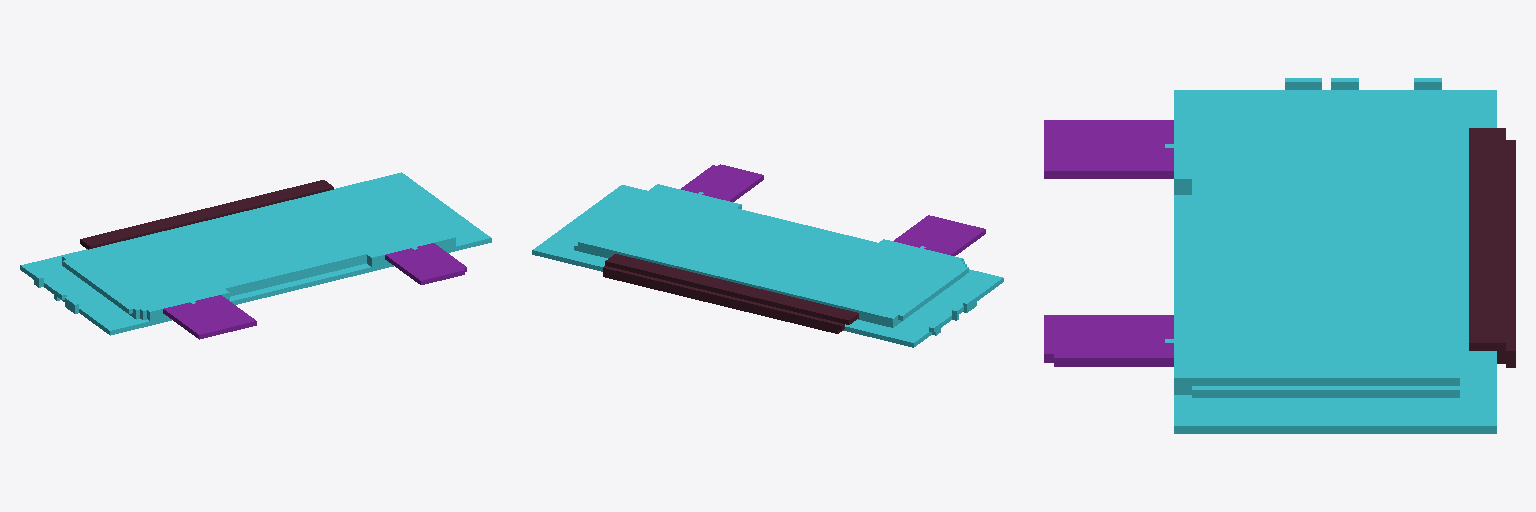
URDF robot description (physxnet_10105_strict):
<?xml version='1.0' encoding='utf-8'?>
<robot name="physxnet_10105_strict">
  <link name="l_world">
    <inertial>
      <origin xyz="0 0 0" rpy="0 0 0" />
      <mass value="0.0100000000" />
      <inertia ixx="0.0000001667" ixy="0.0" ixz="0.0" iyy="0.0000001667" iyz="0.0" izz="0.0000001667" />
    </inertial>
  </link><link name="l_0">
    <inertial>
      <origin xyz="-0.0004768423 0.1061541697 0.0038067806" rpy="0 0 0" />
      <mass value="0.1233491729" />
      <inertia ixx="0.0003206739" ixy="0.0" ixz="0.0" iyy="0.0013692394" iyz="0.0" izz="0.0011251413" />
    </inertial><visual>
      <origin xyz="0 0 0" rpy="0 0 0" />
      <geometry>
        <mesh filename="../rigid_visuals/part_000_visual.obj" scale="1 1 1" />
      </geometry><material name="mat_l_0">
        <color rgba="0.32548 0.48041 0.93131 1.00000" />
      </material>
    </visual><collision>
      <origin xyz="0 0 0" rpy="0 0 0" />
      <geometry>
        <mesh filename="part_000_collision.obj" scale="1 1 1" />
      </geometry>
    </collision>
  </link><joint name="joint_fixed_l_world_l_0" type="fixed">
    <parent link="l_world" />
    <child link="l_0" />
    <origin xyz="0 0 0" rpy="0 0 0" />
  </joint><link name="l_1">
    <inertial>
      <origin xyz="0.0010393545 0.1062440672 0.0000000000" rpy="0 0 0" />
      <mass value="0.0976900593" />
      <inertia ixx="0.0003814227" ixy="0.0" ixz="0.0" iyy="0.0013184372" iyz="0.0" izz="0.0010338699" />
    </inertial><visual>
      <origin xyz="0 0 0" rpy="0 0 0" />
      <geometry>
        <mesh filename="../rigid_visuals/part_001_visual.obj" scale="1 1 1" />
      </geometry><material name="mat_l_1">
        <color rgba="0.15447 0.35718 0.26453 1.00000" />
      </material>
    </visual><collision>
      <origin xyz="0 0 0" rpy="0 0 0" />
      <geometry>
        <mesh filename="part_001_collision.obj" scale="1 1 1" />
      </geometry>
    </collision>
  </link><joint name="joint_fixed_l_0_l_1" type="fixed">
    <parent link="l_0" />
    <child link="l_1" />
    <origin xyz="0 0 0" rpy="0 0 0" />
  </joint><link name="l_2">
    <inertial>
      <origin xyz="0.0000319553 -0.0049516994 -0.0969944459" rpy="0 0 0" />
      <mass value="0.0060200271" />
      <inertia ixx="0.0000096049" ixy="0.0" ixz="0.0" iyy="0.0000607233" iyz="0.0" izz="0.0000702796" />
    </inertial><visual>
      <origin xyz="0 0 0" rpy="0 0 0" />
      <geometry>
        <mesh filename="../rigid_visuals/part_002_visual.obj" scale="1 1 1" />
      </geometry><material name="mat_l_2">
        <color rgba="0.29417 0.82410 0.87988 1.00000" />
      </material>
    </visual><collision>
      <origin xyz="0 0 0" rpy="0 0 0" />
      <geometry>
        <mesh filename="part_002_collision.obj" scale="1 1 1" />
      </geometry>
    </collision>
  </link><joint name="joint_fixed_l_1_l_2" type="fixed">
    <parent link="l_1" />
    <child link="l_2" />
    <origin xyz="0 0 0" rpy="0 0 0" />
  </joint><link name="l_3">
    <inertial>
      <origin xyz="-0.0009592799 -0.0987647929 -0.0936402614" rpy="0 0 0" />
      <mass value="0.0001000000" />
      <inertia ixx="0.0000000276" ixy="0.0" ixz="0.0" iyy="0.0000004722" iyz="0.0" izz="0.0000004998" />
    </inertial><visual>
      <origin xyz="0 0 0" rpy="0 0 0" />
      <geometry>
        <mesh filename="../rigid_visuals/part_003_visual.obj" scale="1 1 1" />
      </geometry><material name="mat_l_3">
        <color rgba="0.55944 0.19916 0.68114 1.00000" />
      </material>
    </visual><collision>
      <origin xyz="0 0 0" rpy="0 0 0" />
      <geometry>
        <mesh filename="part_003_collision.obj" scale="1 1 1" />
      </geometry>
    </collision>
  </link><joint name="joint_fixed_l_2_l_3" type="fixed">
    <parent link="l_2" />
    <child link="l_3" />
    <origin xyz="0 0 0" rpy="0 0 0" />
  </joint><link name="l_4">
    <inertial>
      <origin xyz="-0.0006219466 -0.0357767245 -0.0539311734" rpy="0 0 0" />
      <mass value="0.1288156630" />
      <inertia ixx="0.0006055014" ixy="0.0" ixz="0.0" iyy="0.0014007175" iyz="0.0" izz="0.0018161097" />
    </inertial><visual>
      <origin xyz="0 0 0" rpy="0 0 0" />
      <geometry>
        <mesh filename="../rigid_visuals/part_004_visual.obj" scale="1 1 1" />
      </geometry><material name="mat_l_4">
        <color rgba="0.31347 0.28085 0.26098 1.00000" />
      </material>
    </visual><collision>
      <origin xyz="0 0 0" rpy="0 0 0" />
      <geometry>
        <mesh filename="part_004_collision.obj" scale="1 1 1" />
      </geometry>
    </collision>
  </link><joint name="joint_fixed_l_3_l_4" type="fixed">
    <parent link="l_3" />
    <child link="l_4" />
    <origin xyz="0 0 0" rpy="0 0 0" />
  </joint><link name="l_5">
    <inertial>
      <origin xyz="-0.0047065018 0.0636909600 -0.0968382754" rpy="0 0 0" />
      <mass value="0.0029175992" />
      <inertia ixx="0.0000000642" ixy="0.0" ixz="0.0" iyy="0.0000112743" iyz="0.0" izz="0.0000113051" />
    </inertial><visual>
      <origin xyz="0 0 0" rpy="0 0 0" />
      <geometry>
        <mesh filename="../rigid_visuals/part_005_visual.obj" scale="1 1 1" />
      </geometry><material name="mat_l_5">
        <color rgba="0.31346 0.15755 0.21545 1.00000" />
      </material>
    </visual><collision>
      <origin xyz="0 0 0" rpy="0 0 0" />
      <geometry>
        <mesh filename="part_005_collision.obj" scale="1 1 1" />
      </geometry>
    </collision>
  </link><joint name="joint_fixed_l_4_l_5" type="fixed">
    <parent link="l_4" />
    <child link="l_5" />
    <origin xyz="0 0 0" rpy="0 0 0" />
  </joint>
</robot>

--- Render facts (derived) ---
Views: 3 orthographic renders of the robot side by side, from view 1: azimuth 30°, elevation 25°; view 2: azimuth 150°, elevation 25°; view 3: azimuth 270°, elevation 25°.
Robot: physxnet_10105_strict — 7 links, 6 joints (6 fixed); root link l_world; default pose: all joints at 0.
Links seen in each view (by area): view 1: l_2, l_3, l_5; view 2: l_2, l_5, l_3; view 3: l_2, l_3, l_5.
Link boxes in pixels (x1,y1,x2,y2): l_2: (20, 172, 491, 335); l_3: (163, 243, 466, 339); l_5: (80, 180, 333, 249); l_2: (532, 184, 1003, 347); l_5: (603, 254, 858, 333); l_3: (681, 164, 985, 255); l_2: (1165, 78, 1496, 433); l_3: (1044, 120, 1173, 366); l_5: (1469, 128, 1515, 367).
Size in the robot's own frame: 0.348 by 0.204 by 0.012 metres.
3 mesh visuals loaded from 6 distinct referenced files (3 OBJ); not drawn: 3 (reference not matched to a file when rendering).
